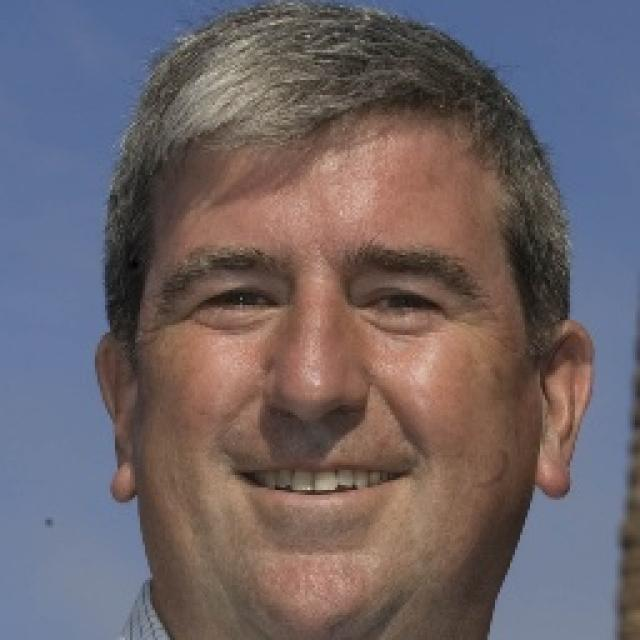earlobe: (533, 318, 595, 501), (96, 333, 140, 504)
